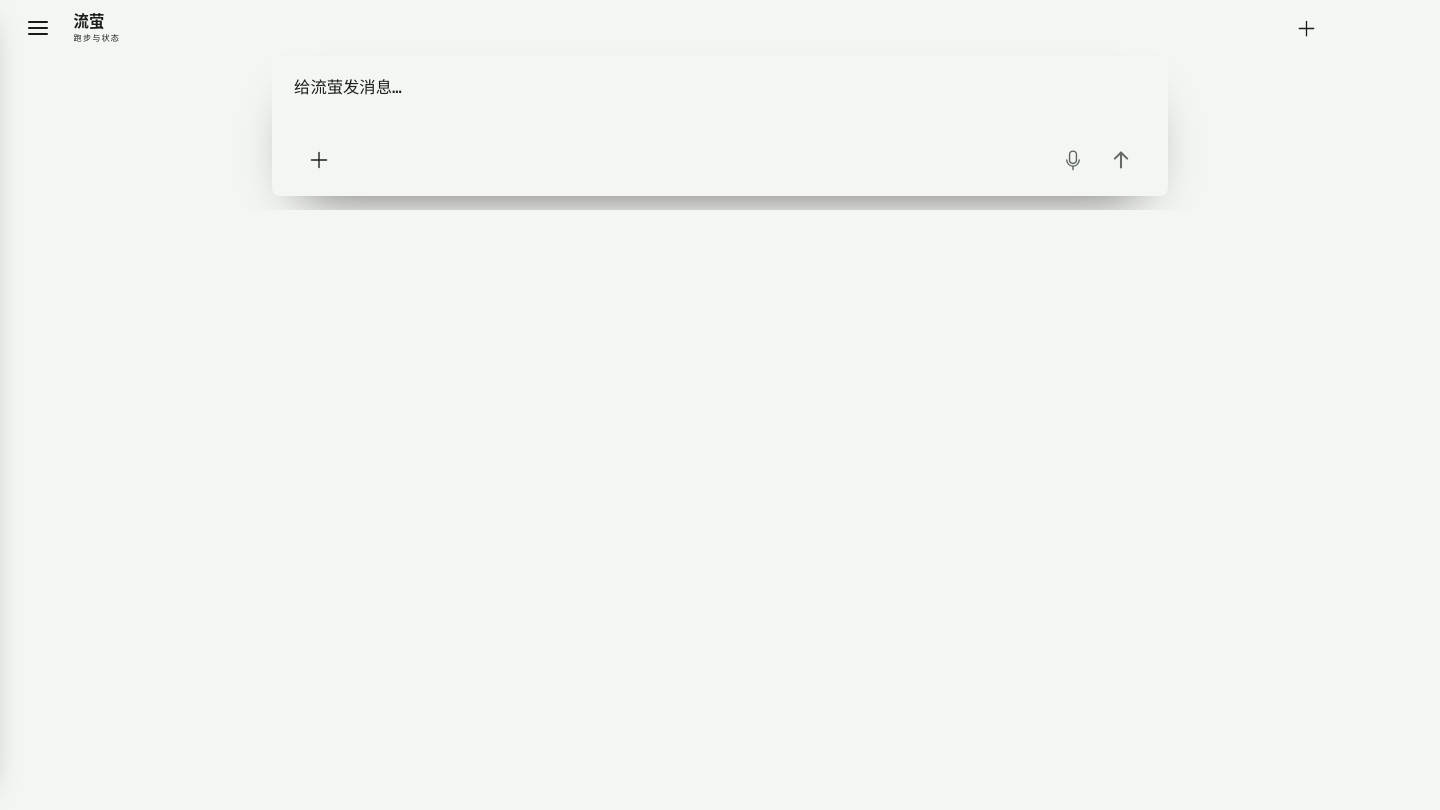
Test: 持续授权 true、双库 false 时按相应入口发送，重复点击不重复提交
In the text box named "给流萤的消息": [720, 103] box [290,72,1150,134], type "今晚怎么跑"
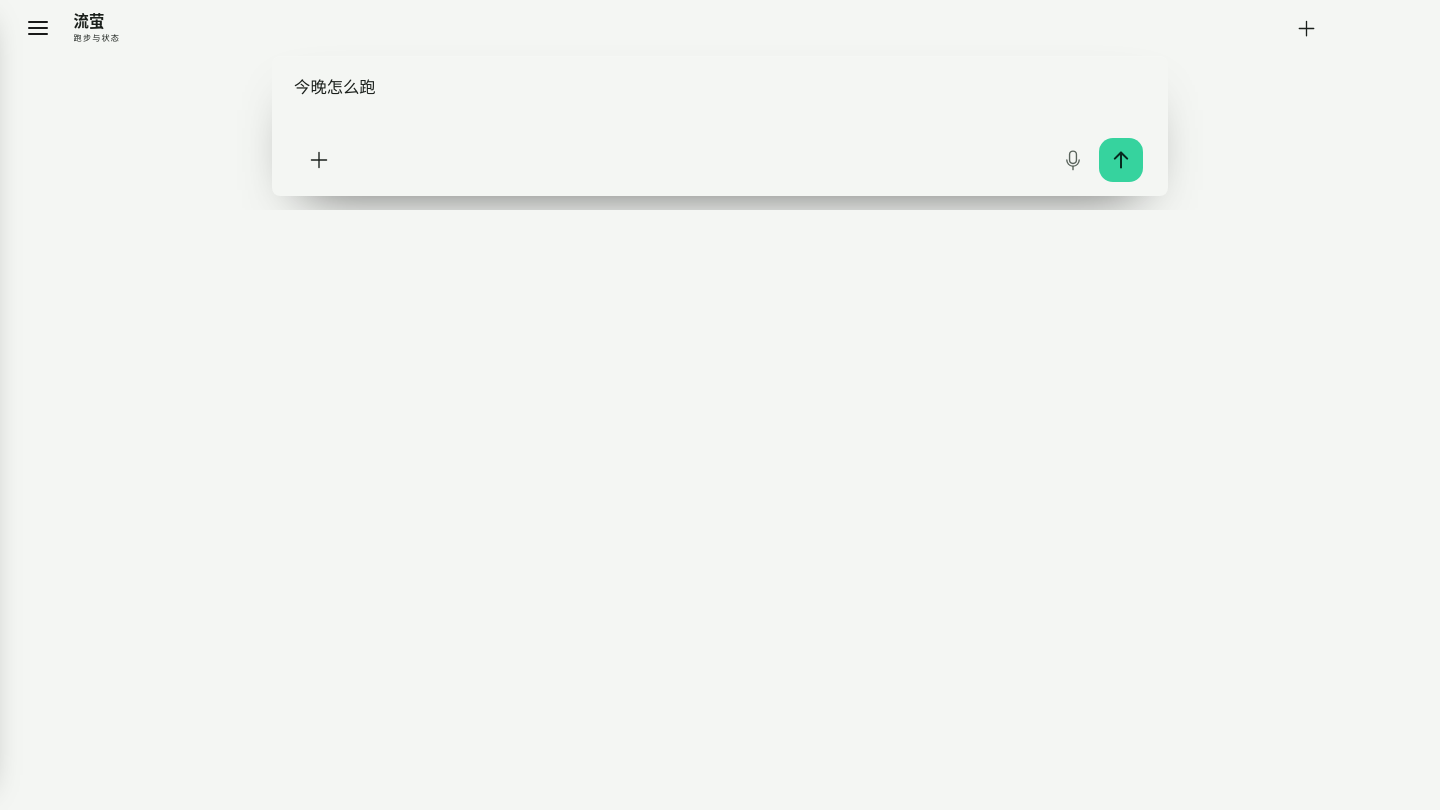
Click the button named "在线执行": [1121, 160] box [1099,138,1143,182]
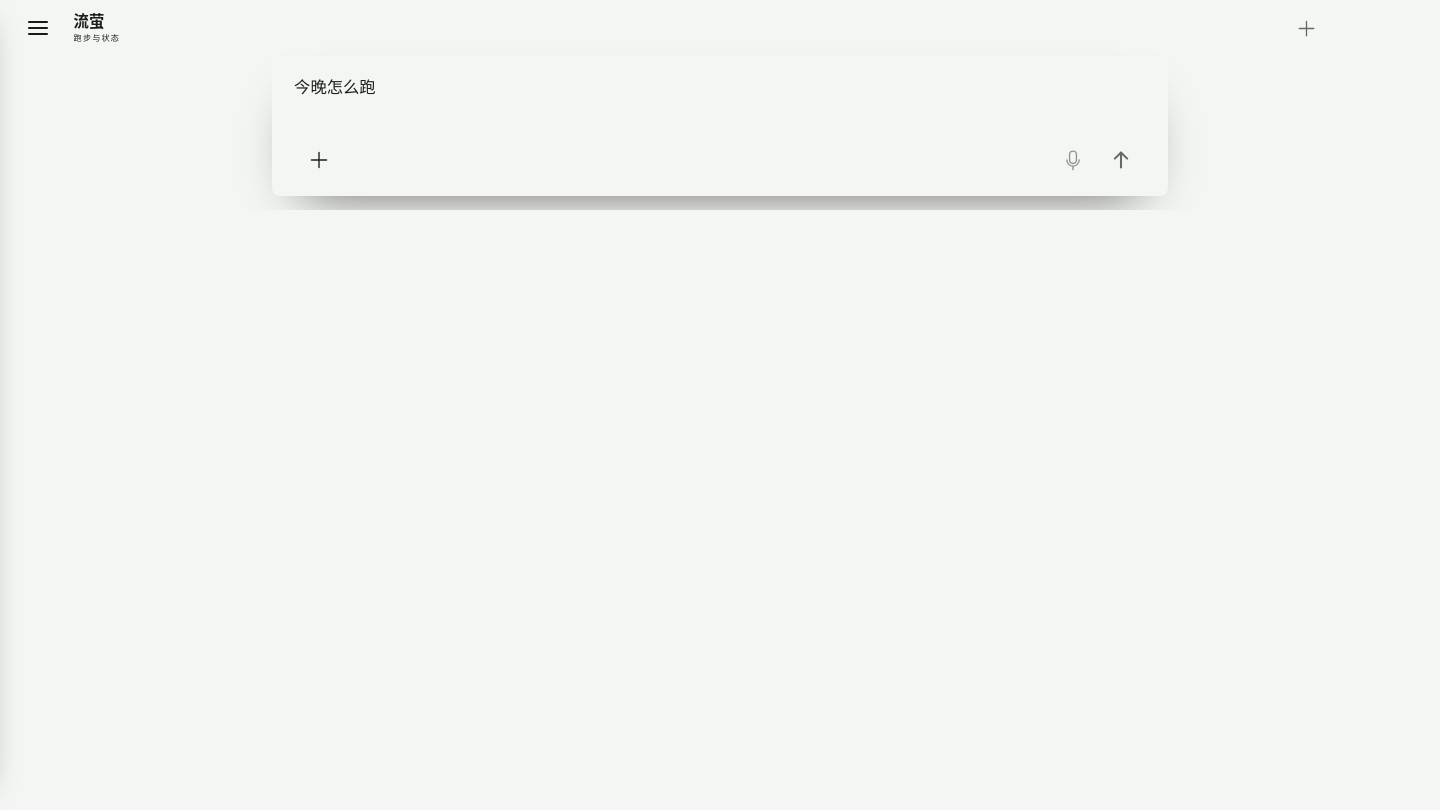
Click the button named "在线执行": [1121, 160] box [1099,138,1143,182]
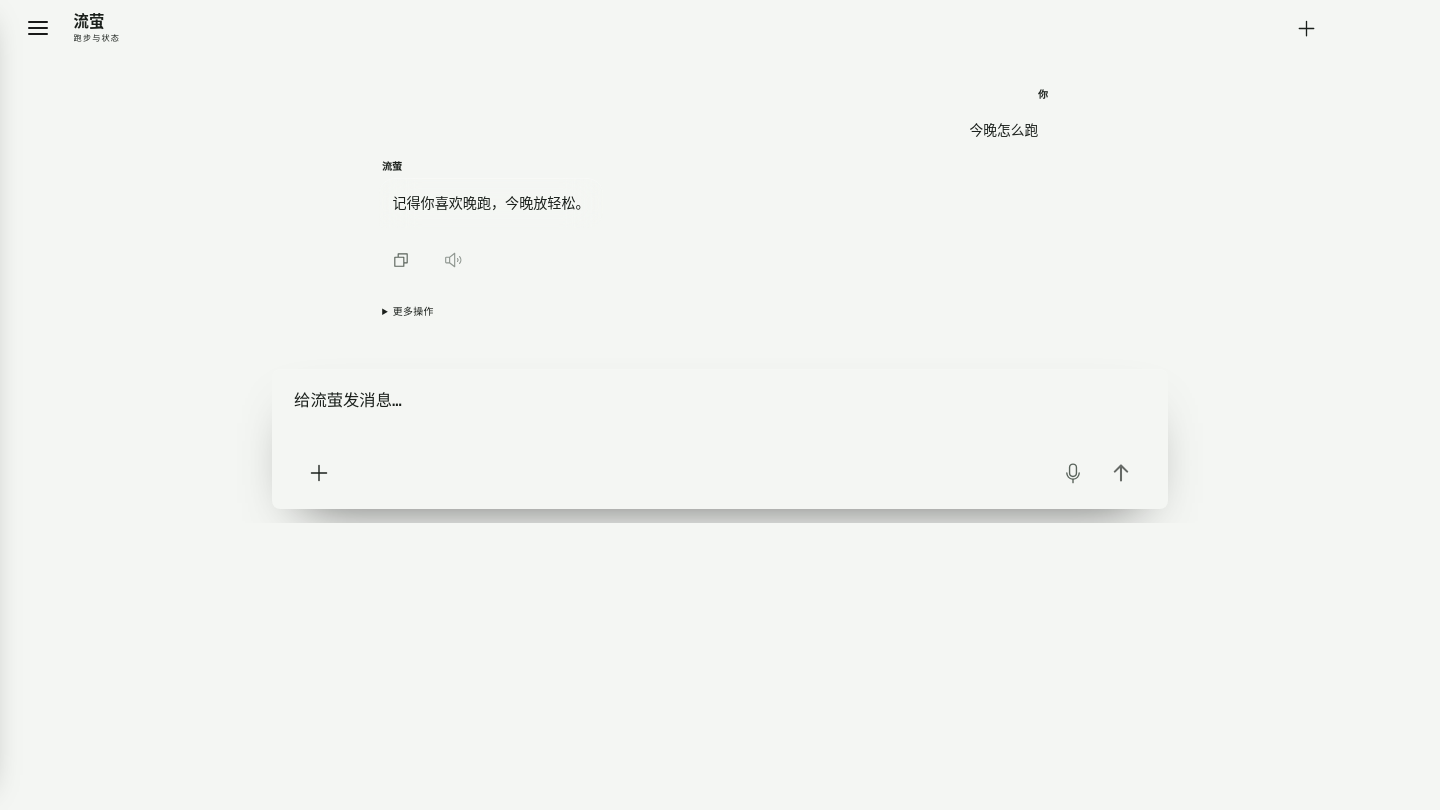
expect the text box named "给流萤的消息" is empty: met, box [290,385,1150,447]
expect the text "记得你喜欢晚跑，今晚放轻松。" is shown: met, box [392,190,590,216]
